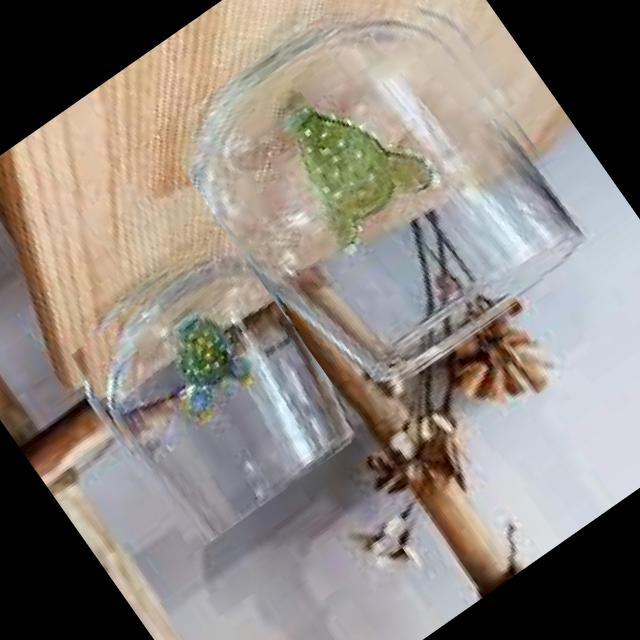Glass: (154, 0, 609, 417), (44, 212, 380, 554)
